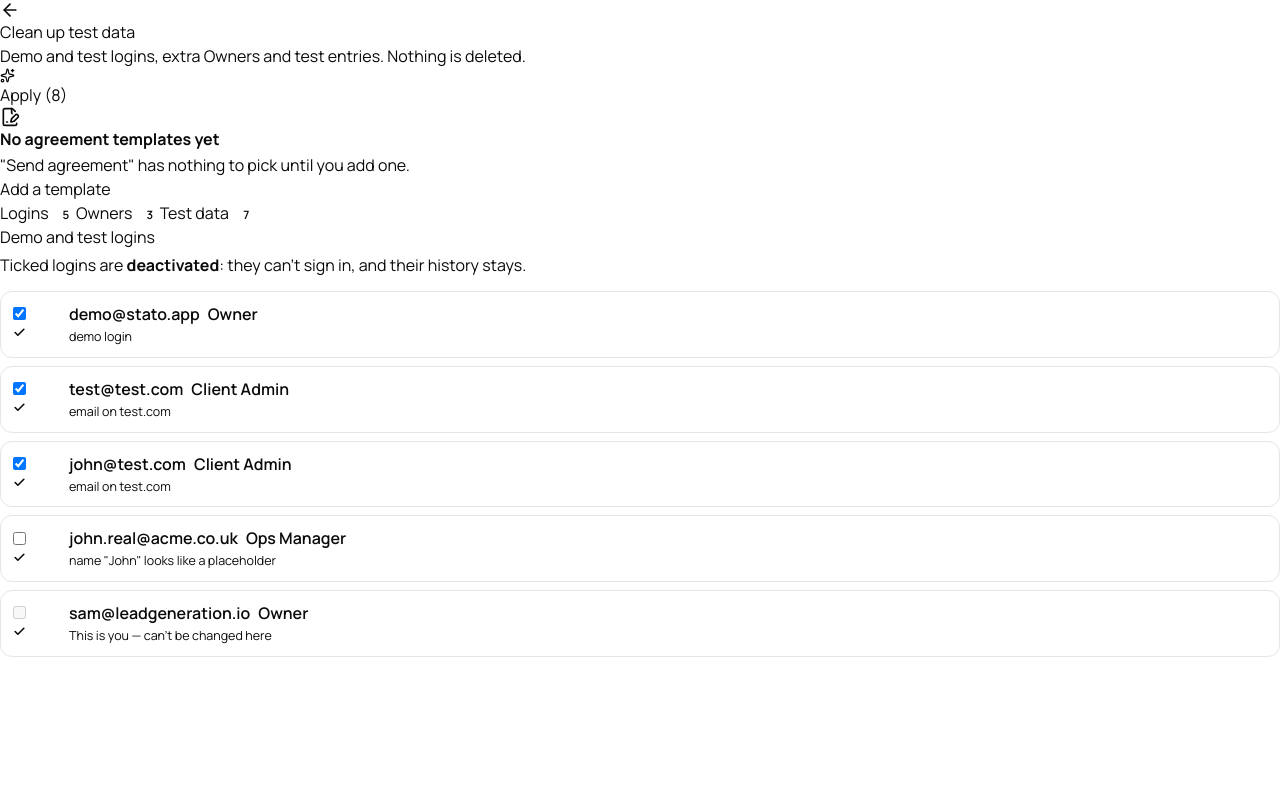
Test: Settings → Clean up (S8 + N6) › only pre-ticks obvious placeholder staff, not a real first-name-only person
This screenshot has width=1280, height=800.
Click the tab "Test data 7".
click(208, 213)  # box top-left (160, 201), bottom-right (256, 225)
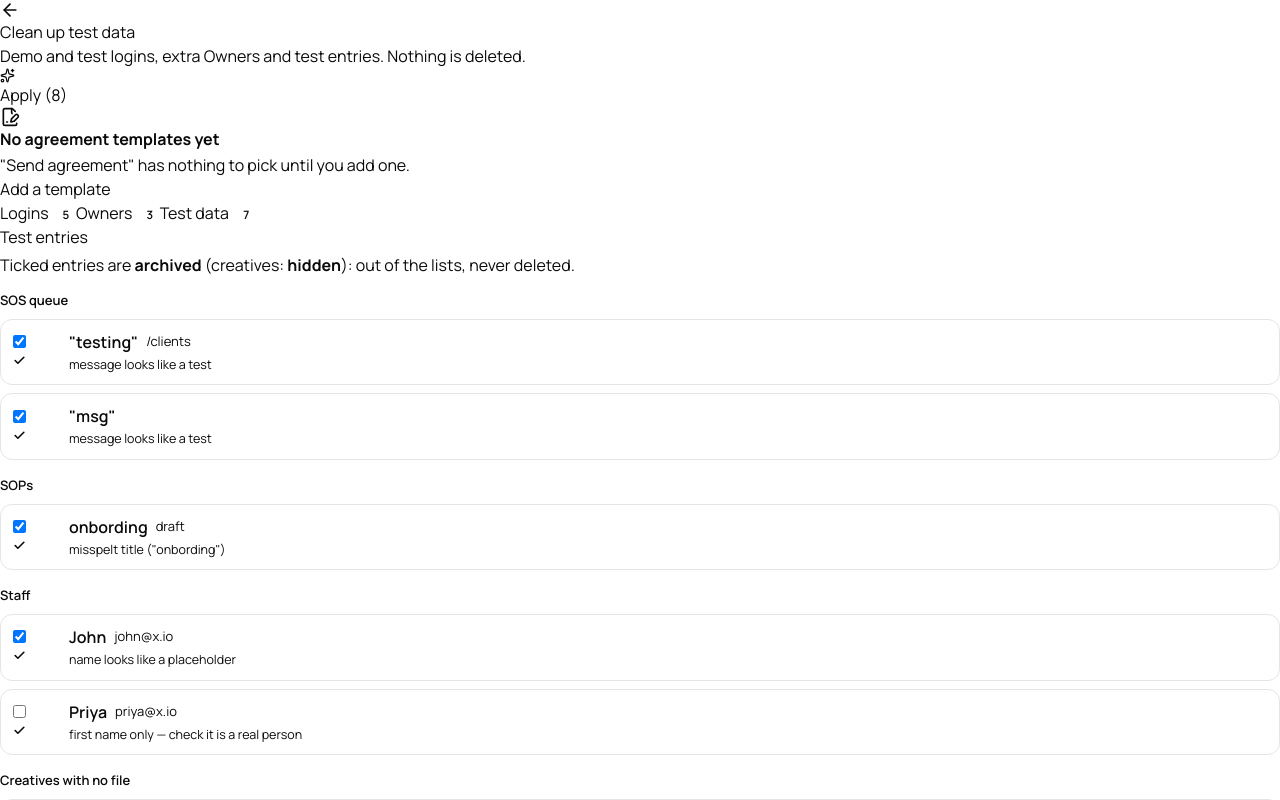
Check: the checkbox named "Archive Staff \"John\"" is checked, box top-left (13, 630), bottom-right (26, 643)
Check: the checkbox named "Archive Staff \"Priya\"" is not checked, box top-left (13, 705), bottom-right (26, 718)
